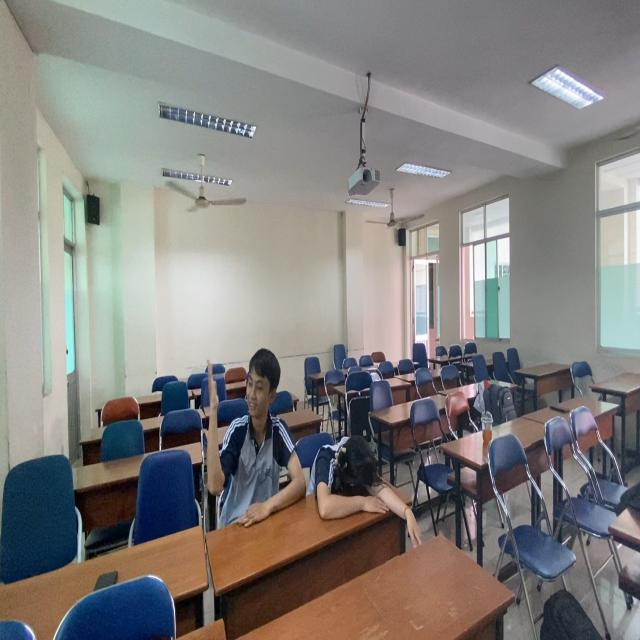raise_hand: (196, 333, 290, 515)
sleep: (310, 420, 406, 552)
